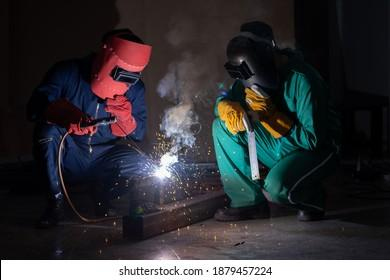gloves: (245, 84, 295, 138), (45, 99, 97, 137), (104, 94, 138, 137), (219, 89, 252, 133)
